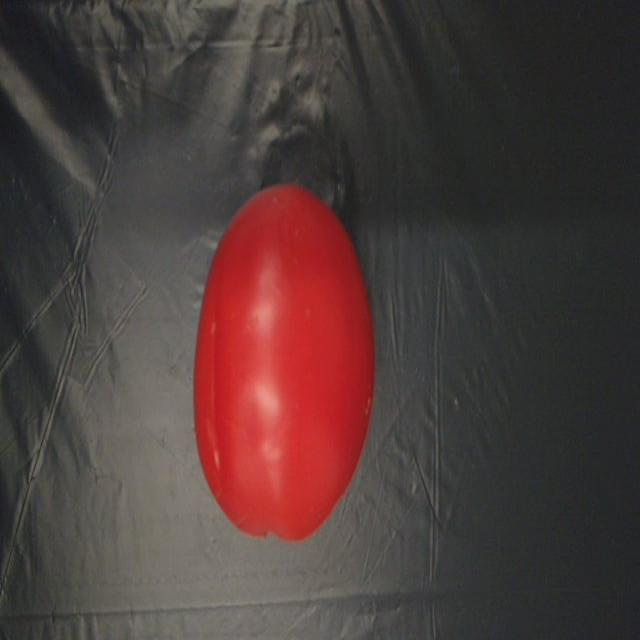kirmizi: (186, 168, 381, 554)
